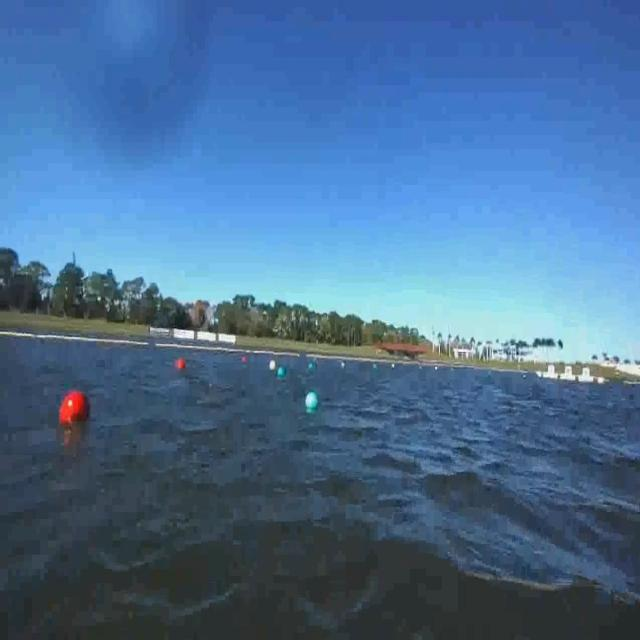green-buoy: (306, 389, 320, 411), (278, 366, 286, 378)
red-buoy: (59, 389, 92, 430), (179, 358, 189, 370)
